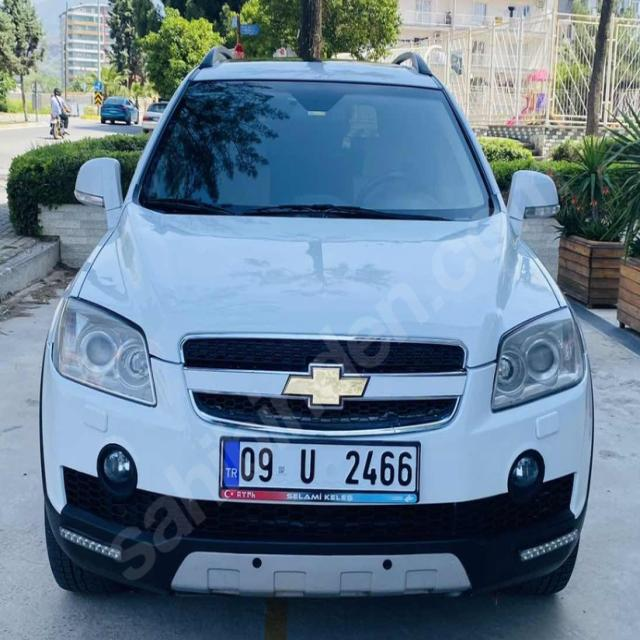chevrolet: (280, 362, 372, 412)
